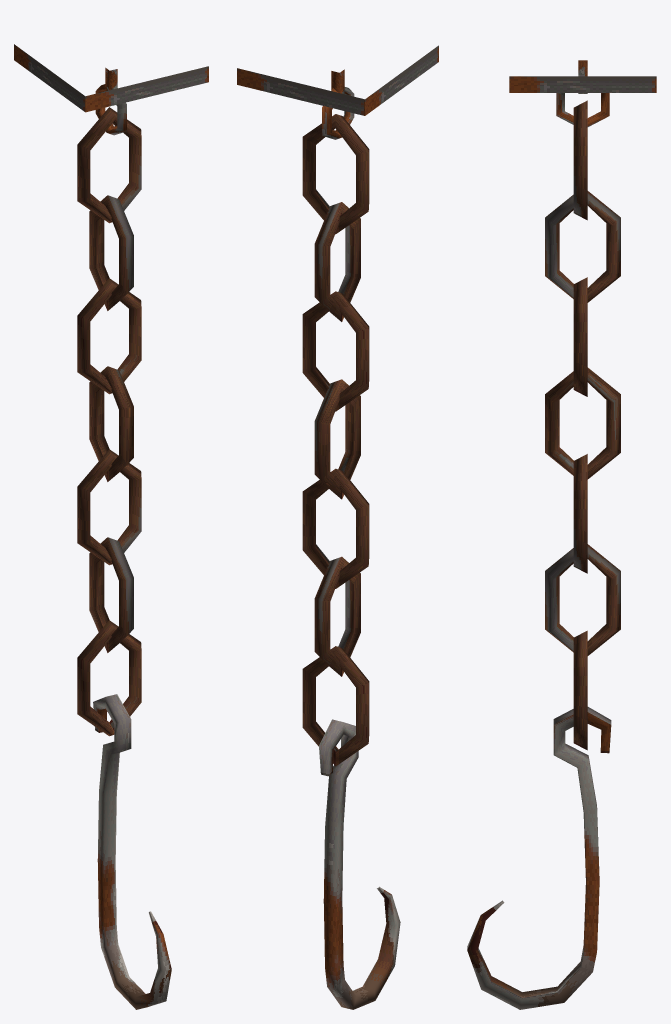
File: meat_hook_chain.glb
3 views of the same model, side by side, from view 1: azimuth 30°, elevation 25°; view 2: azimuth 150°, elevation 25°; view 3: azimuth 270°, elevation 25° (orthographic). The views are drawn at different scales.
Parts seen in each view (by area): view 1: meat_hook_chain; view 2: meat_hook_chain; view 3: meat_hook_chain.
Boxes of the visible parts, x1,y1,x2,y2 form: meat_hook_chain: (14, 44, 208, 1009); meat_hook_chain: (237, 45, 438, 1009); meat_hook_chain: (467, 60, 656, 1009).
Size of the model in its own units: 0.12 by 0.865 by 0.1542.
1 material, 1 textured.
